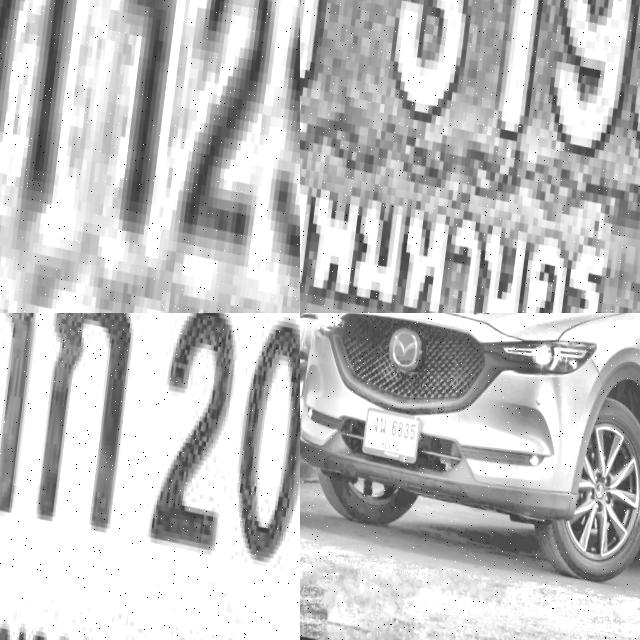license-plate: (300, 0, 640, 313), (0, 313, 300, 640), (0, 0, 300, 313), (361, 401, 425, 467)
